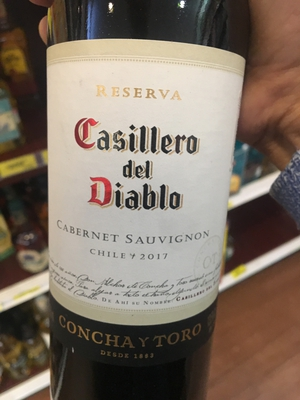casillero del diablo cabernet sauvignon: (44, 10, 261, 400)
